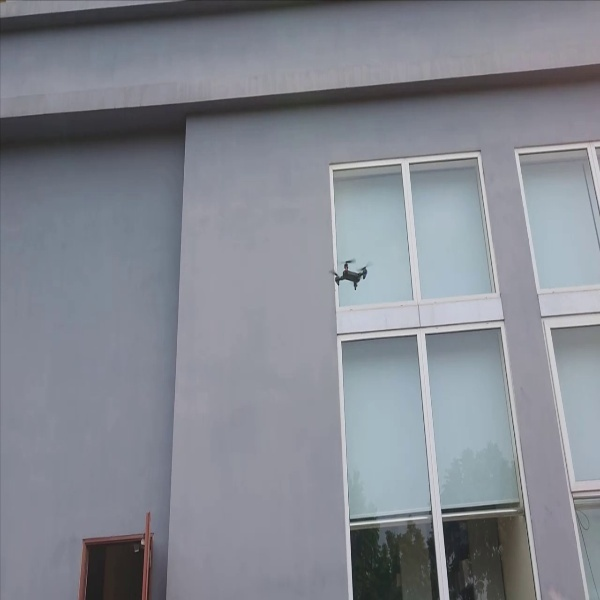drone: (329, 249, 372, 295)
